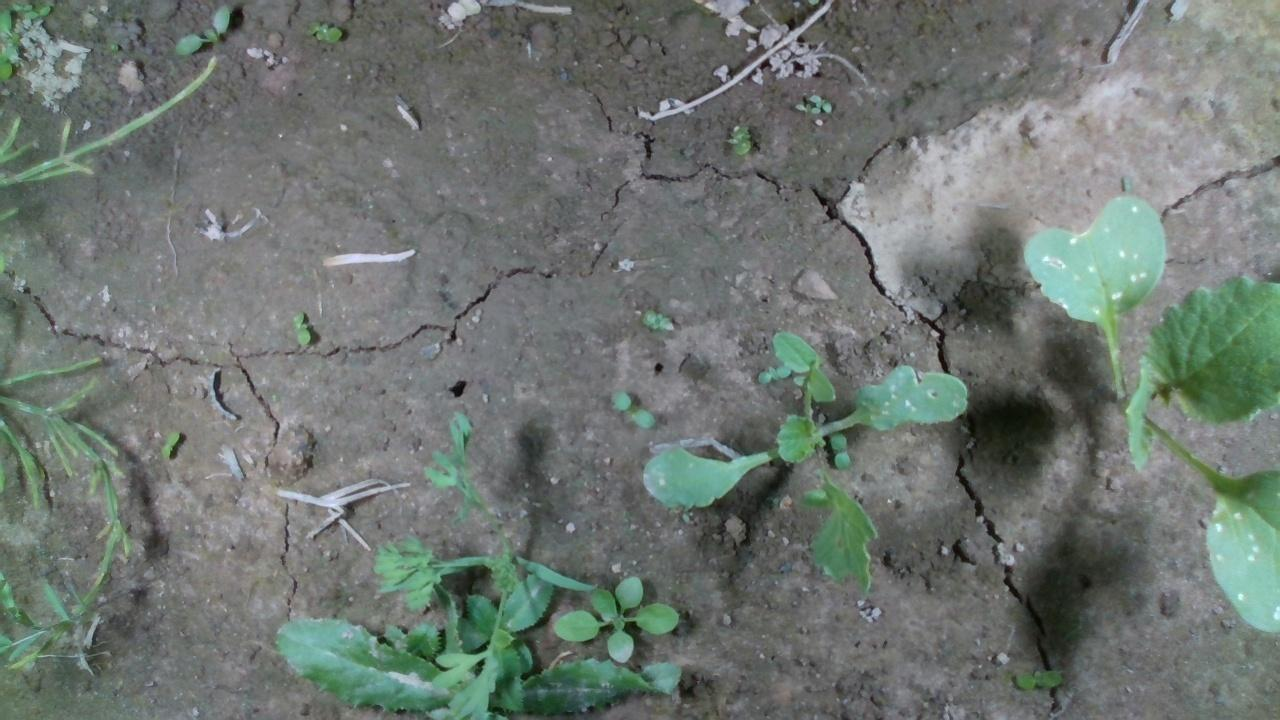weed: (172, 1, 229, 56), (607, 390, 656, 428), (1012, 665, 1063, 690), (303, 18, 344, 42), (640, 307, 675, 333), (729, 120, 751, 154), (290, 309, 310, 346), (159, 427, 179, 457)
